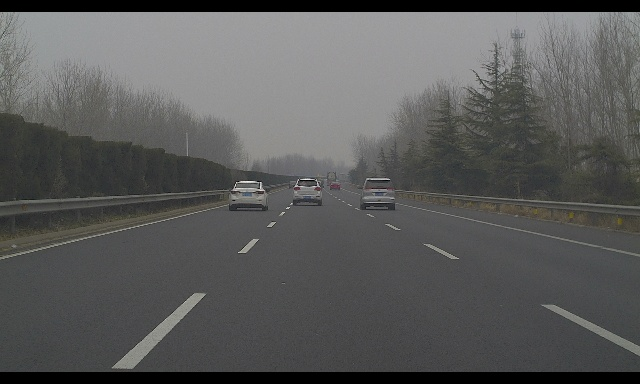car: (357, 178, 397, 210), (229, 181, 270, 211), (292, 178, 324, 205), (330, 182, 341, 190), (288, 181, 298, 189)
truck: (327, 171, 336, 186), (338, 173, 346, 182)
